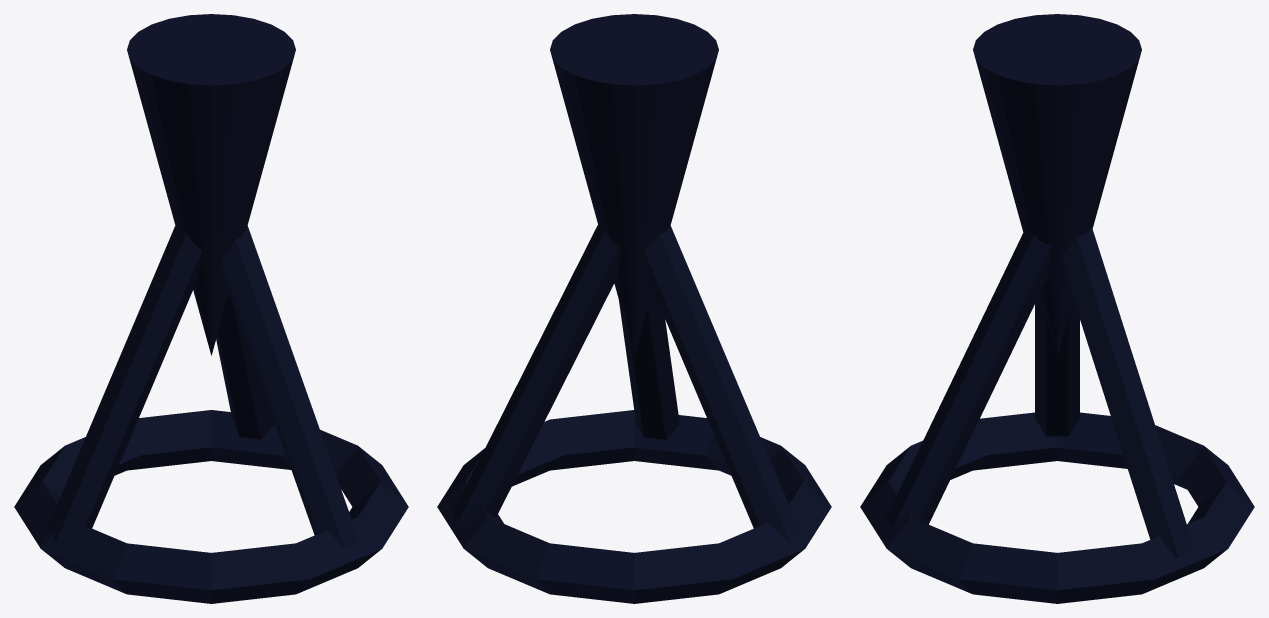
The model's file is Mine.glb.
3 views of the same model, side by side, from view 1: azimuth 30°, elevation 25°; view 2: azimuth 150°, elevation 25°; view 3: azimuth 270°, elevation 25° (orthographic).
Parts seen in each view (by area): view 1: Cone; view 2: Cone; view 3: Cone.
Boxes of the visible parts, bbox=[...] form: Cone: bbox=[14, 14, 408, 603]; Cone: bbox=[437, 14, 831, 603]; Cone: bbox=[860, 14, 1254, 603].
Bounding box in the file's own units: 7 × 9.45 × 7.
